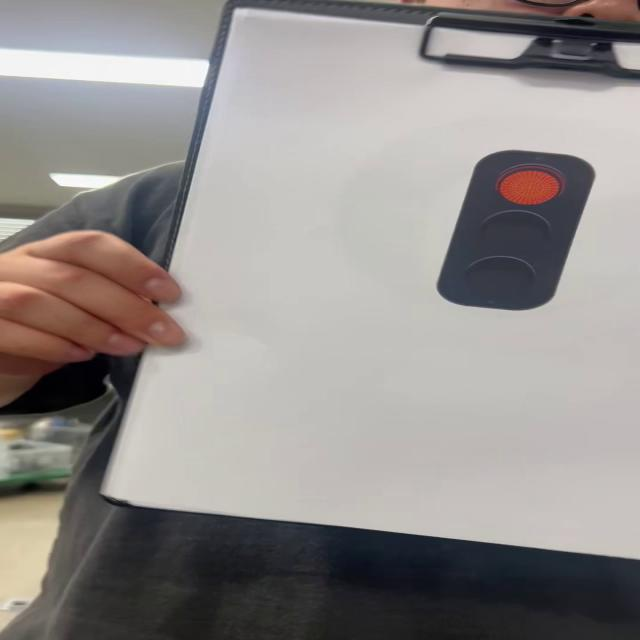red: (435, 148, 601, 315)
